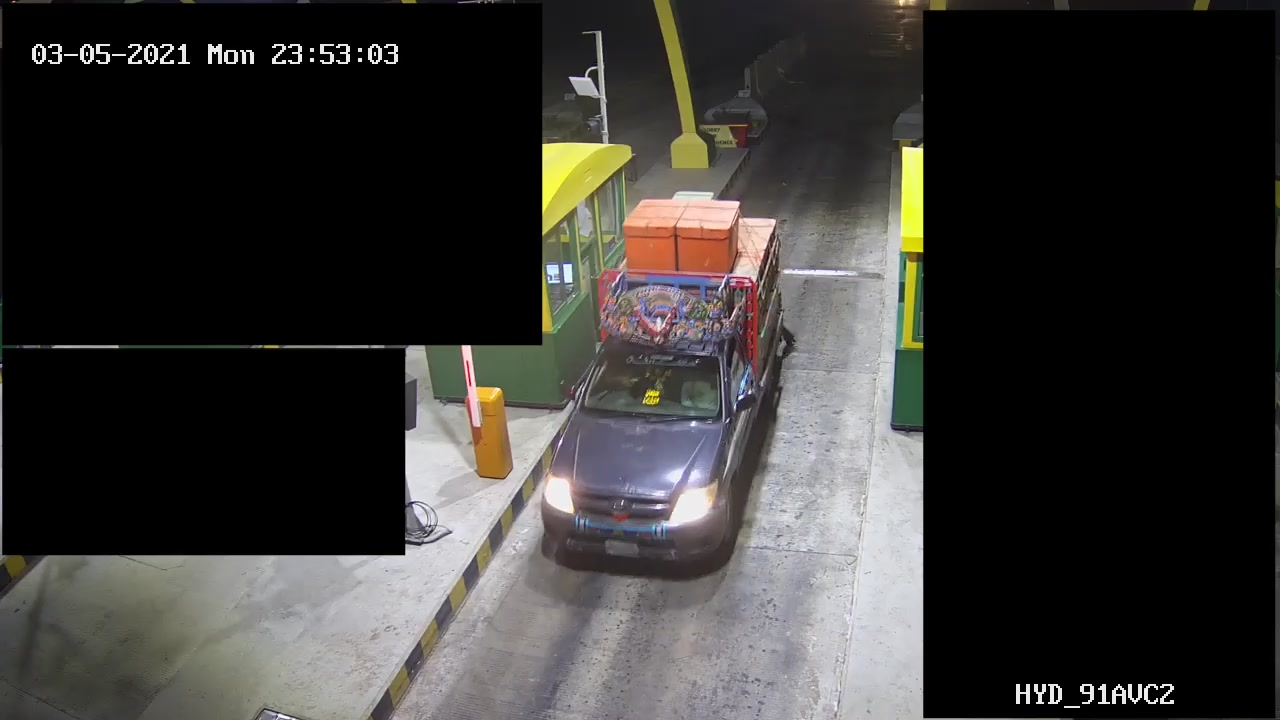F1: (531, 191, 797, 581)
